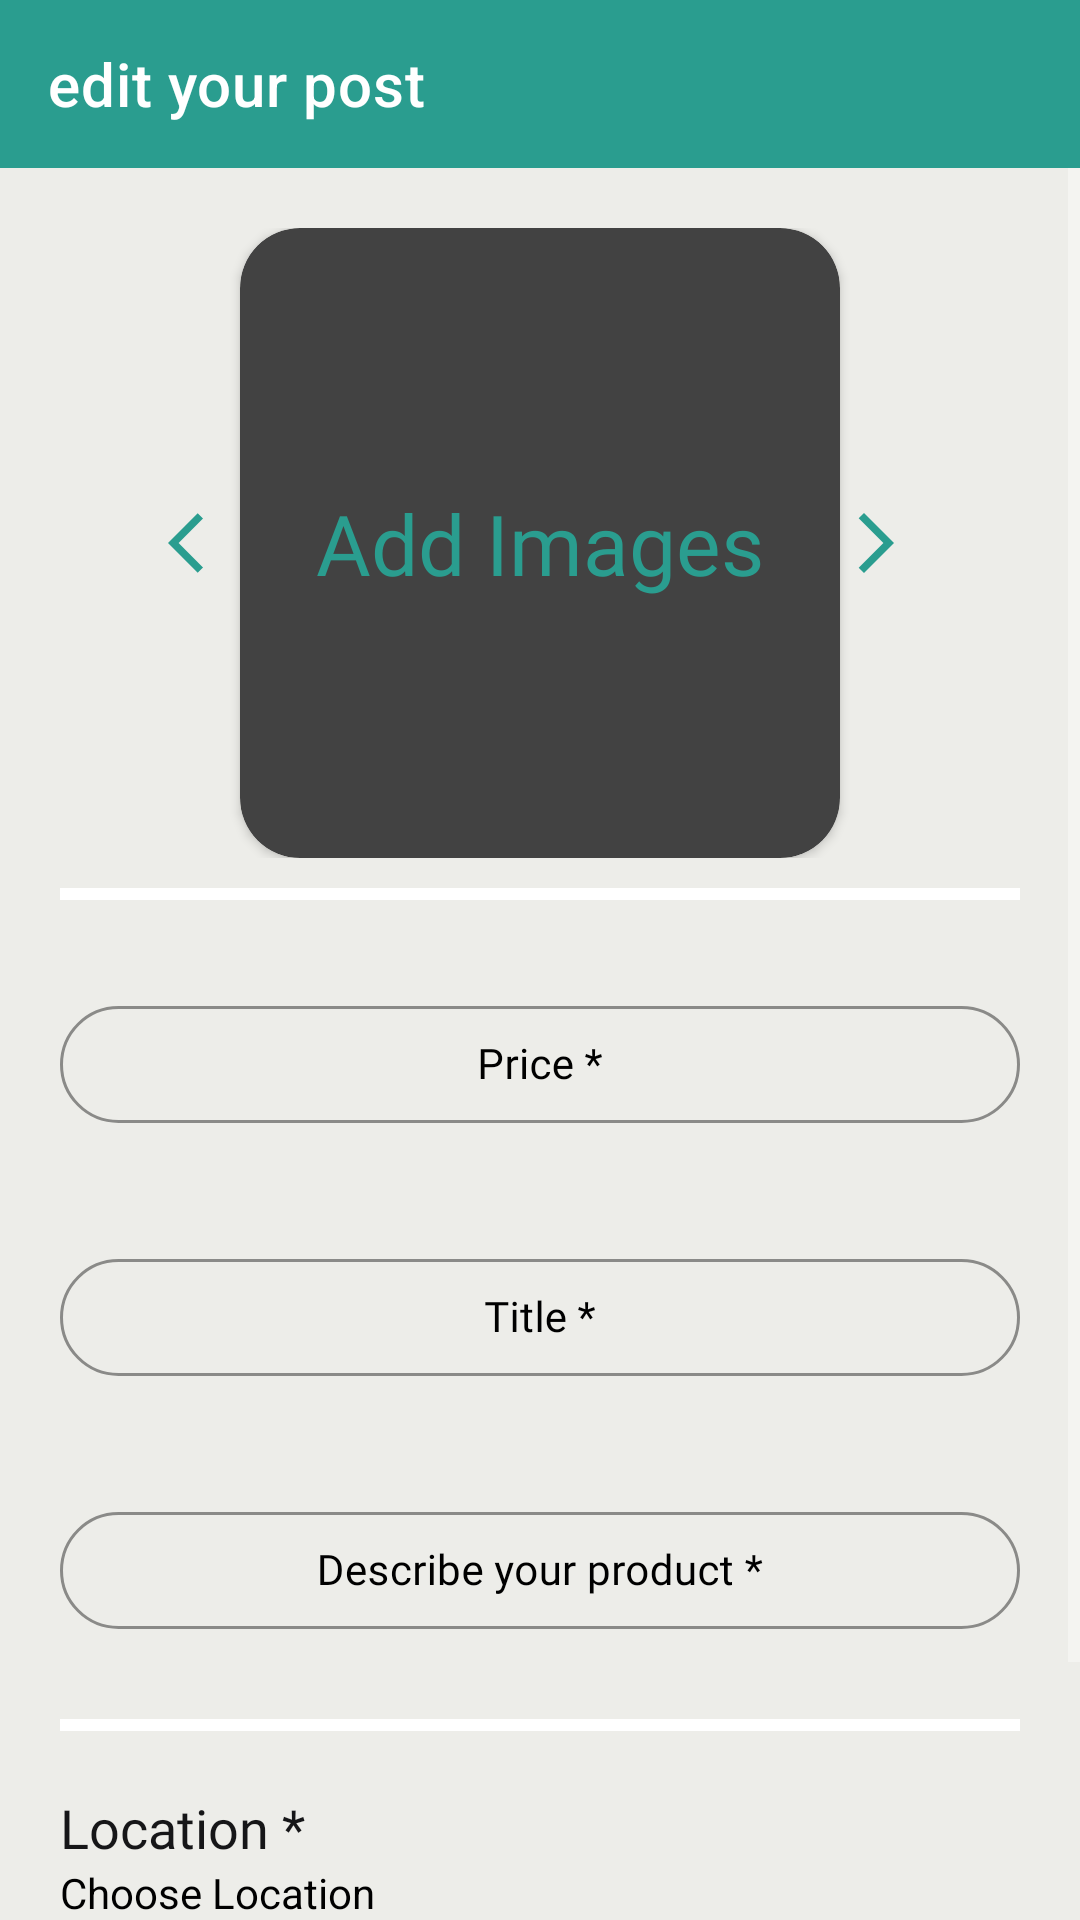

Point at icon controls on the screen. Image size 1080x1920, points as (x,y).
arrow back: (185,543)
arrow forward: (876,543)
